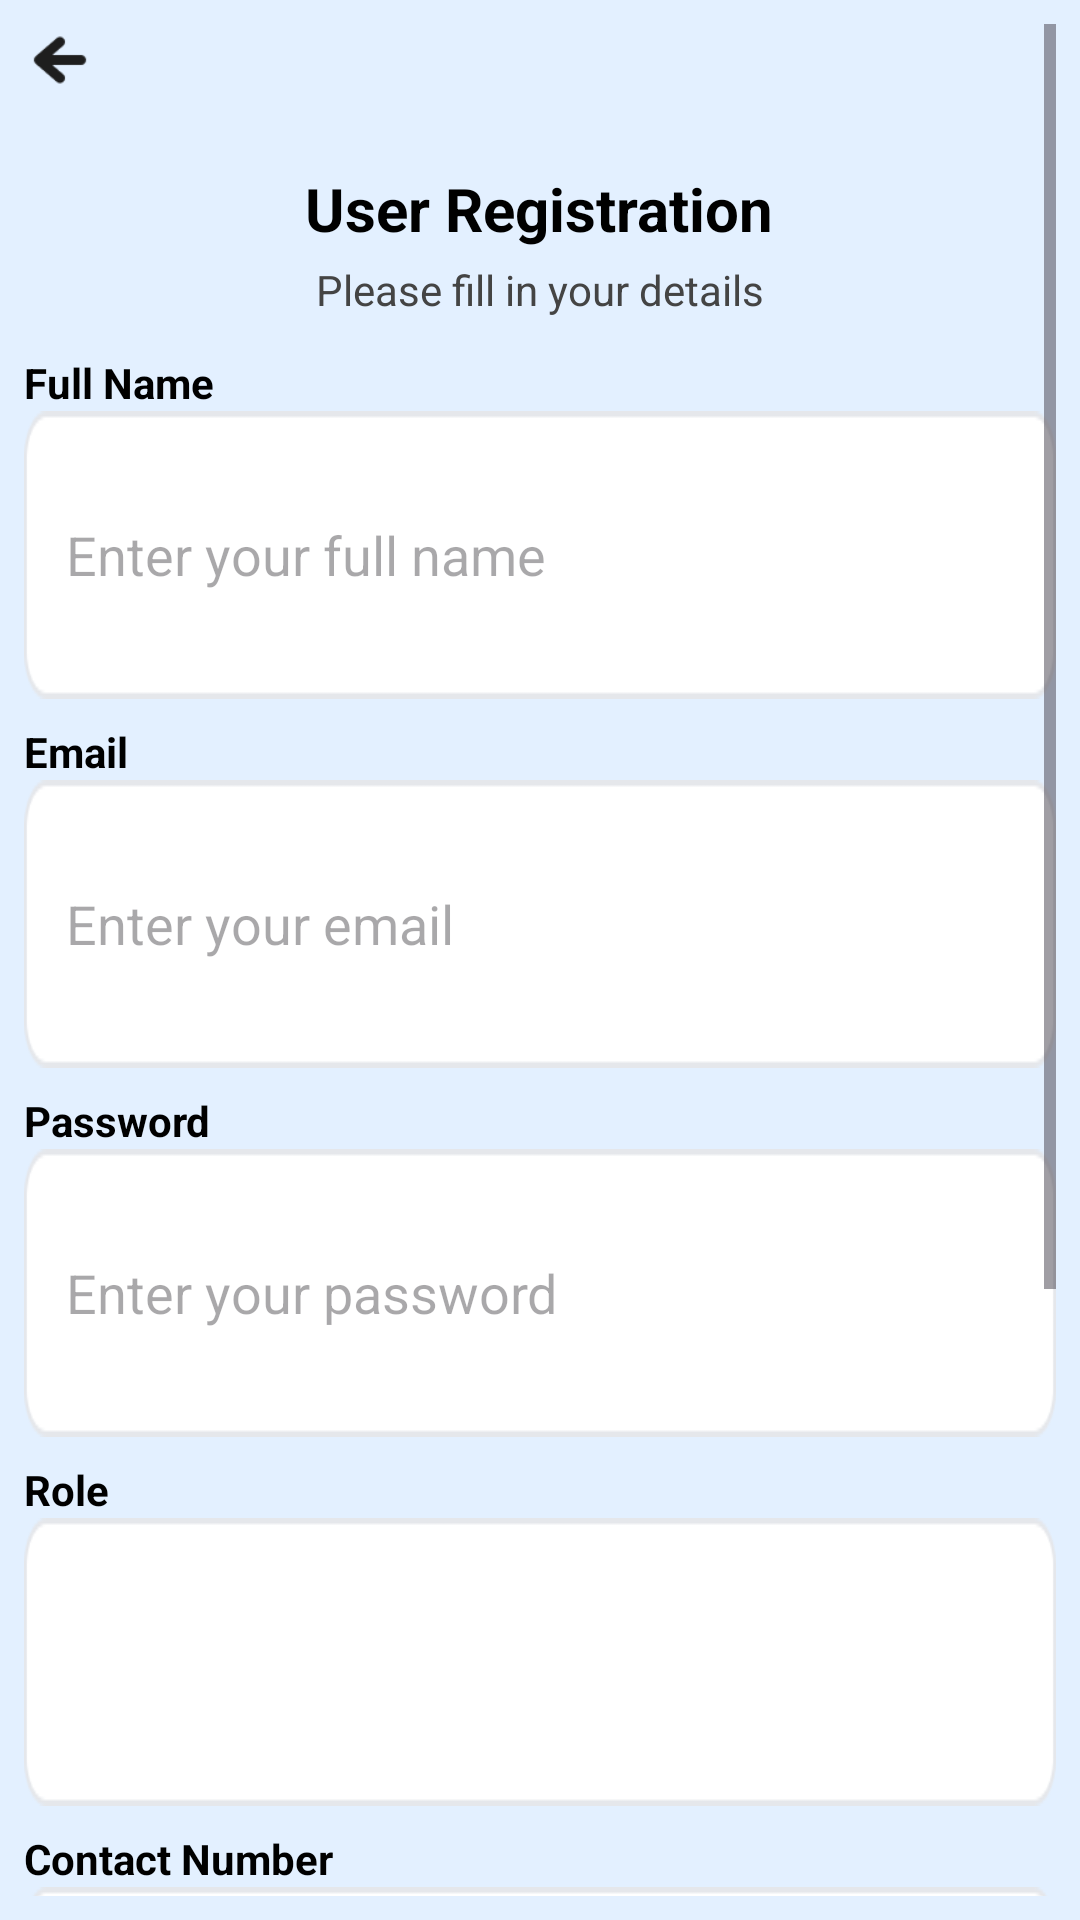

Named icons in this screenshot (1080*1920) and their bounding boxes, bbox=(x1, y1, x2, y2):
Back: bbox=(33, 36, 87, 84)
